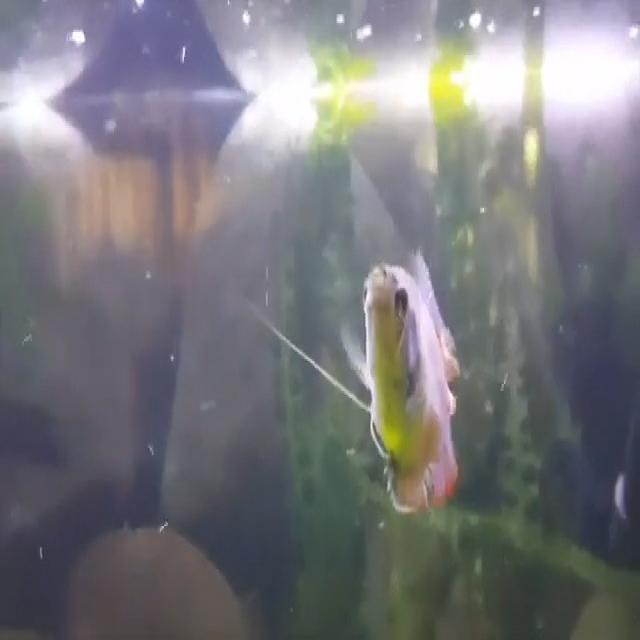fish: (354, 241, 468, 528)
